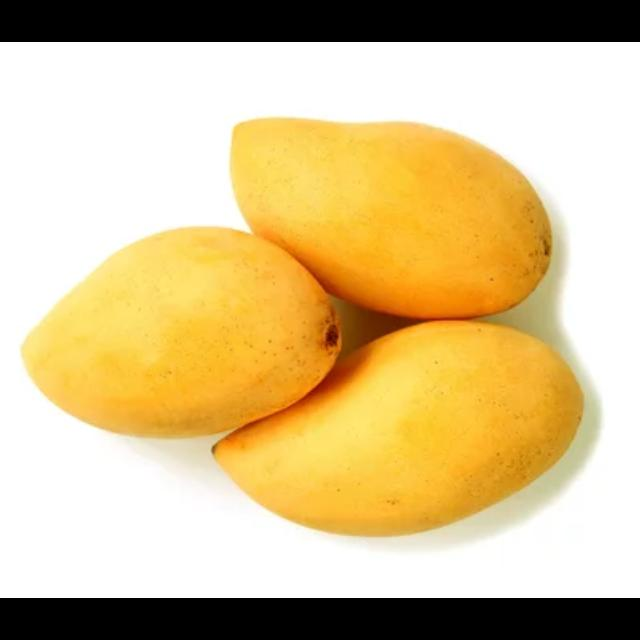mango: (203, 317, 583, 536), (19, 220, 348, 443), (227, 112, 556, 324)
